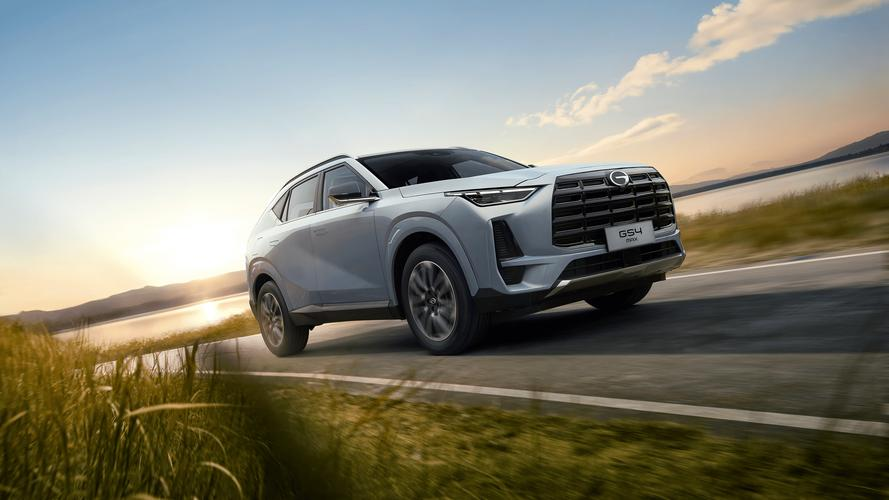汽车: (243, 142, 688, 349)
